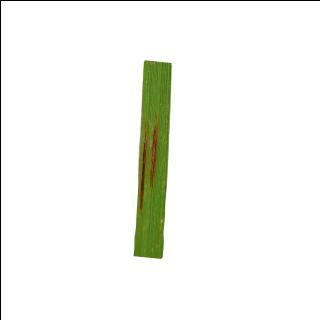Bercak-Cokelat-Sempit: (136, 111, 160, 222)
